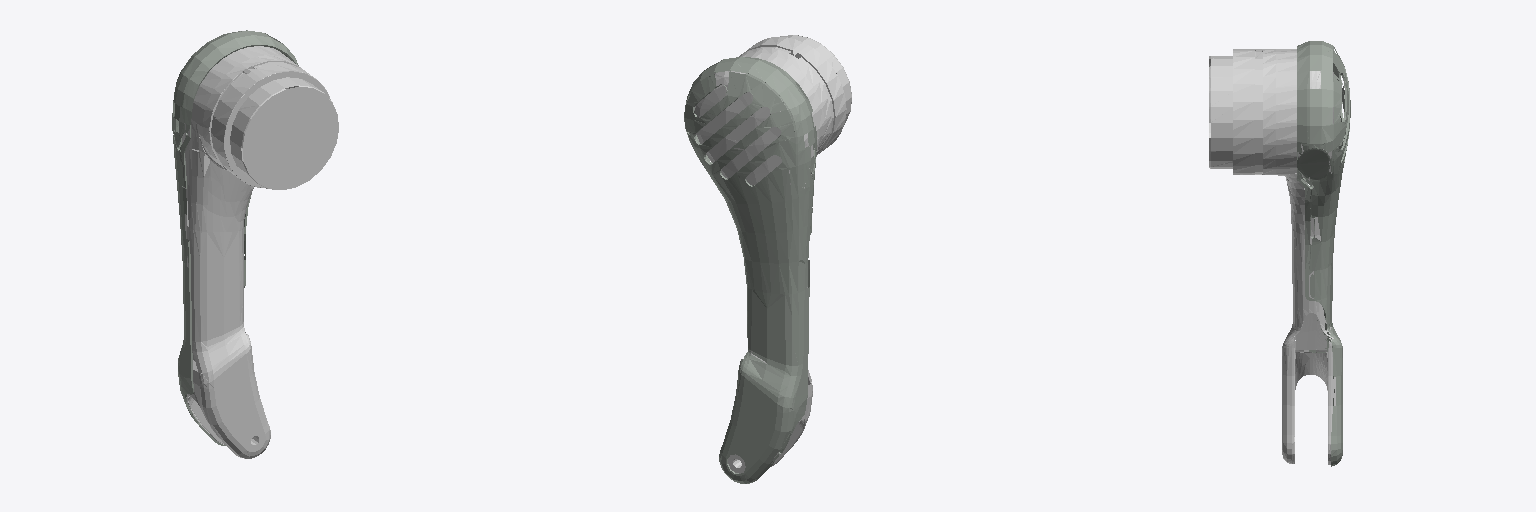
The model's file is RL_thigh.obj.
The picture shows the model from 3 angles: view 1: azimuth 30°, elevation 25°; view 2: azimuth 150°, elevation 25°; view 3: azimuth 270°, elevation 25°; orthographic projection.
Parts seen in each view (by area): view 1: object23_051-mesh; view 2: object23_051-mesh; view 3: object23_051-mesh.
Boxes of the visible parts, x1=… form: object23_051-mesh: x1=172, y1=30, x2=338, y2=458; object23_051-mesh: x1=684, y1=35, x2=851, y2=483; object23_051-mesh: x1=1209, y1=41, x2=1350, y2=466.
Bounding box in the file's own units: 0.1385 × 0.4434 × 0.1364.